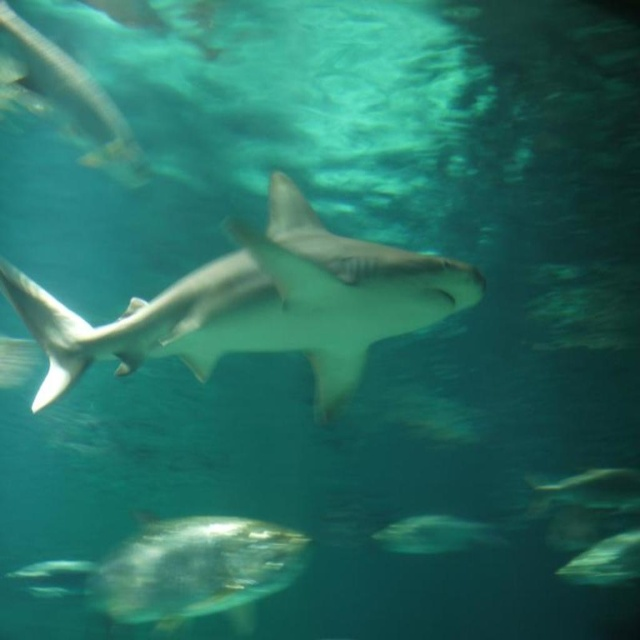Shark: (2, 167, 484, 433)
